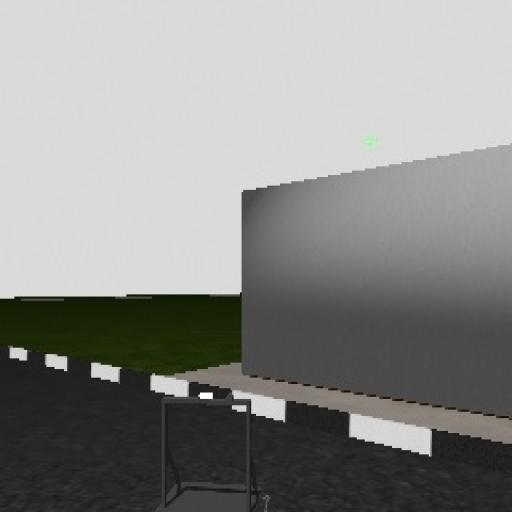huskya200: (140, 386, 286, 512)
